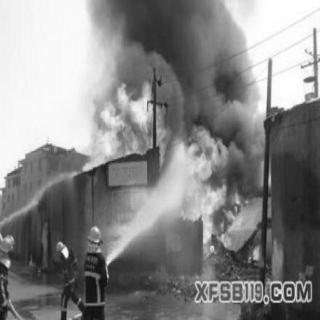Fire: (58, 67, 266, 267)
Smoke: (93, 1, 261, 117)
